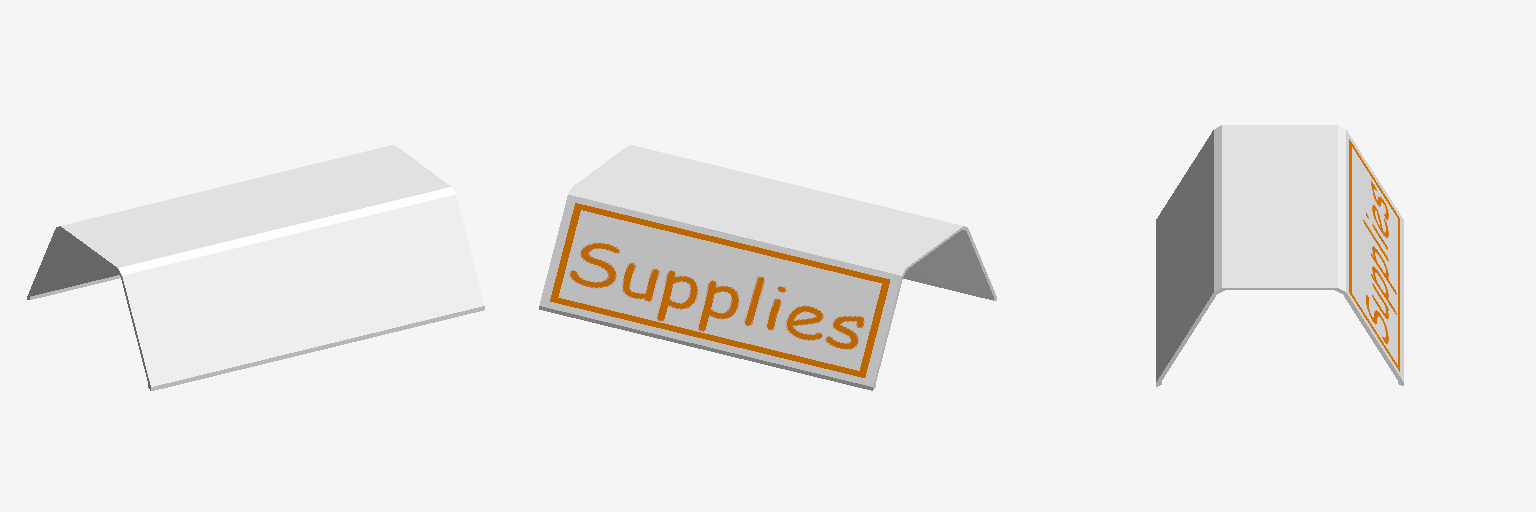
3 renders of one model, left to right at view 1: azimuth 30°, elevation 25°; view 2: azimuth 150°, elevation 25°; view 3: azimuth 270°, elevation 25°, orthographic.
Parts seen in each view (by area): view 1: Top_Cylinder.002; view 2: Top_Cylinder.002; view 3: Top_Cylinder.002.
Boxes of the visible parts, x1,y1,x2,y2 form: Top_Cylinder.002: [27, 145, 484, 390]; Top_Cylinder.002: [539, 145, 996, 390]; Top_Cylinder.002: [1156, 125, 1403, 386].
Bounding box in the file's own units: 1.82 × 0.5189 × 1.17.
1 materials, 1 textured.